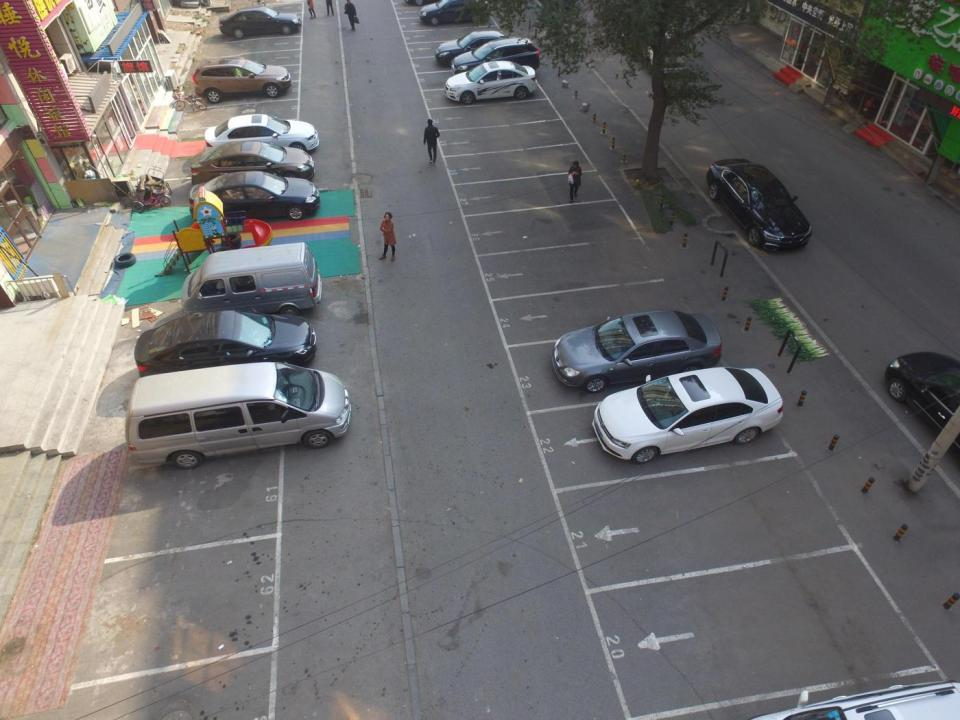car: (592, 366, 784, 464), (551, 310, 722, 394), (134, 309, 317, 379), (706, 158, 811, 252), (884, 352, 960, 465), (189, 170, 320, 222), (191, 141, 313, 188), (203, 113, 318, 156), (192, 55, 292, 104), (444, 60, 538, 104), (450, 37, 540, 80), (436, 30, 516, 65), (218, 6, 301, 38), (418, 0, 488, 26)
truck: (125, 361, 350, 470), (180, 240, 321, 324)
